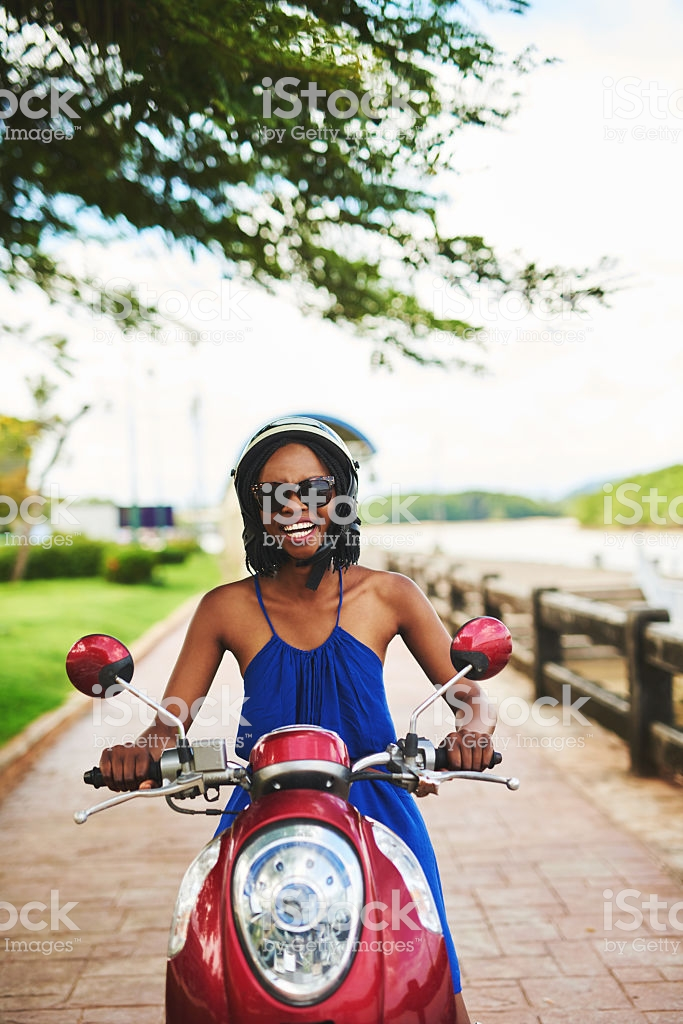helmet: (225, 411, 364, 482)
